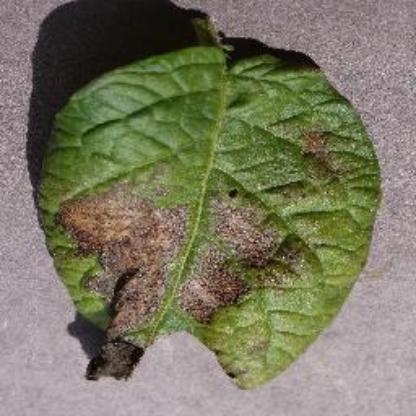Late-Blight: (19, 16, 395, 404)
